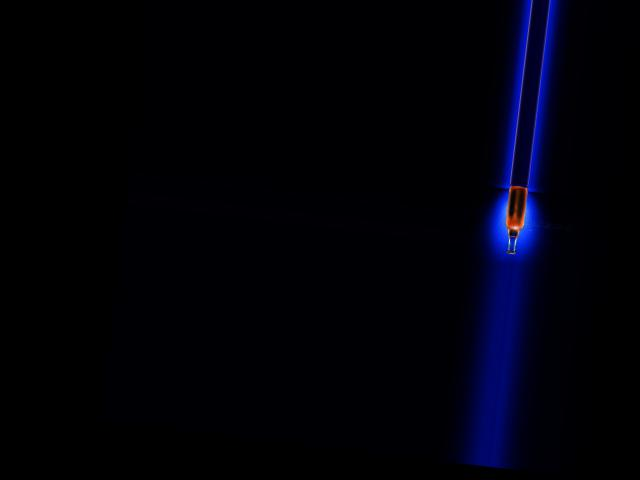beer: (500, 184, 528, 254)
